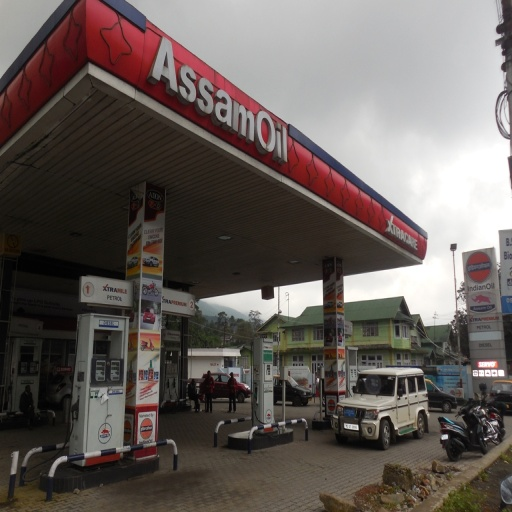roof: (1, 1, 429, 304)
